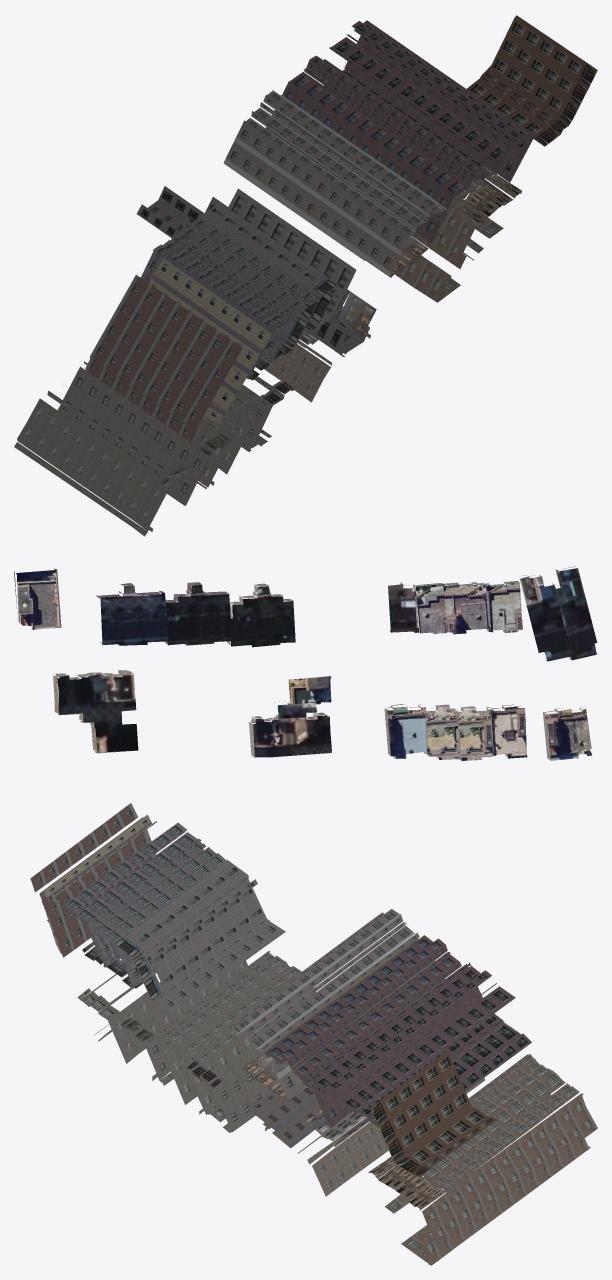
File: tile_LOD4_r2_c10.glb
3 views of the same model, one above another, from view 1: azimuth 30°, elevation 25°; view 2: azimuth 150°, elevation 25°; view 3: azimuth 270°, elevation 25° (orthographic). The views are drawn at different scales.
Size of the model in its own units: 164 by 63.5 by 124.
Materials: 78 (78 with a texture image).
